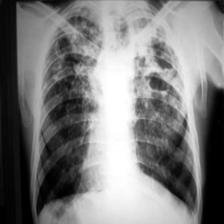tuberculosis: (27, 3, 202, 224)
